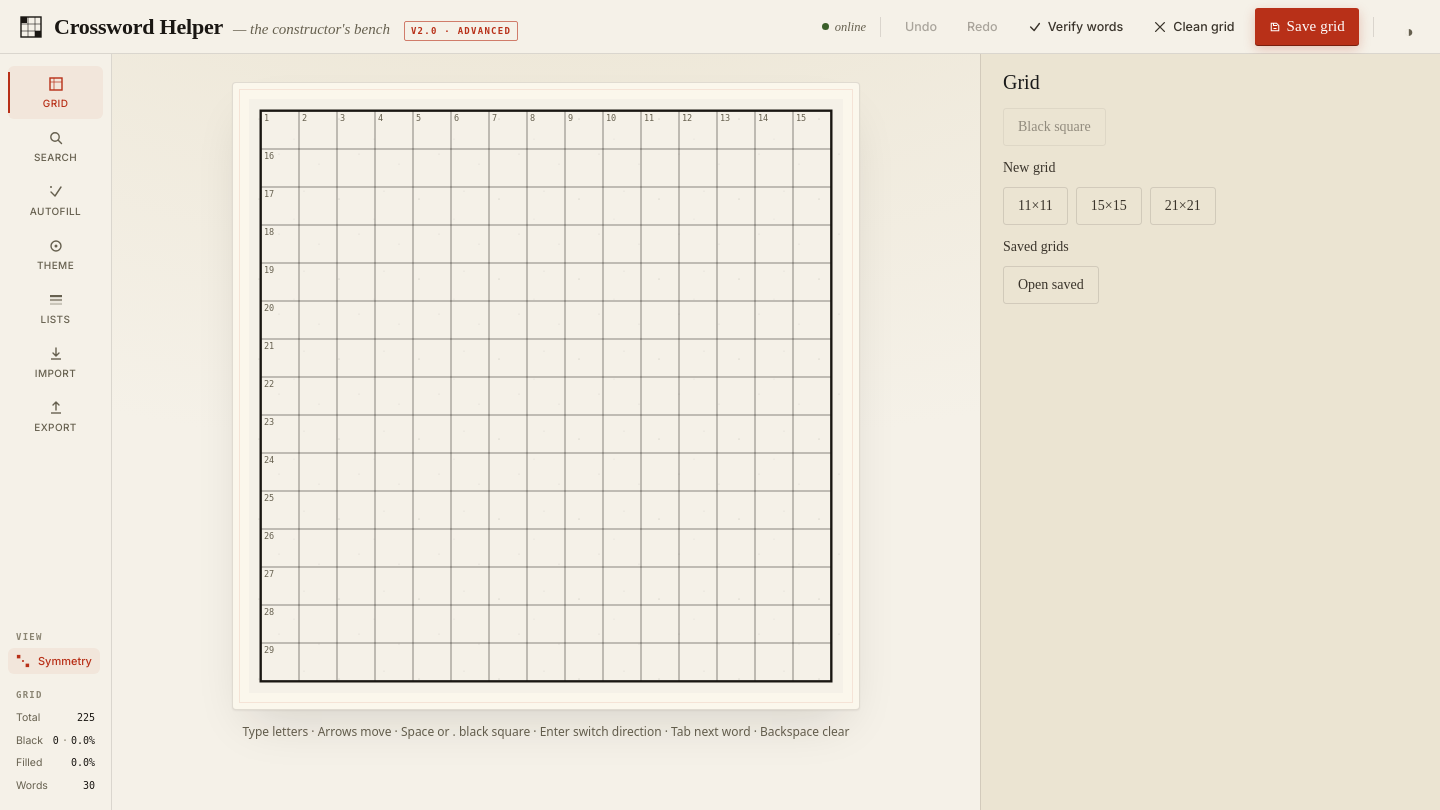
Test case: App save wiring (§3.4) › Save with a stored entry for docId prefills its name
Click the button "Save grid". click: {"x": 1307, "y": 26}
box: [1255,8,1359,45]
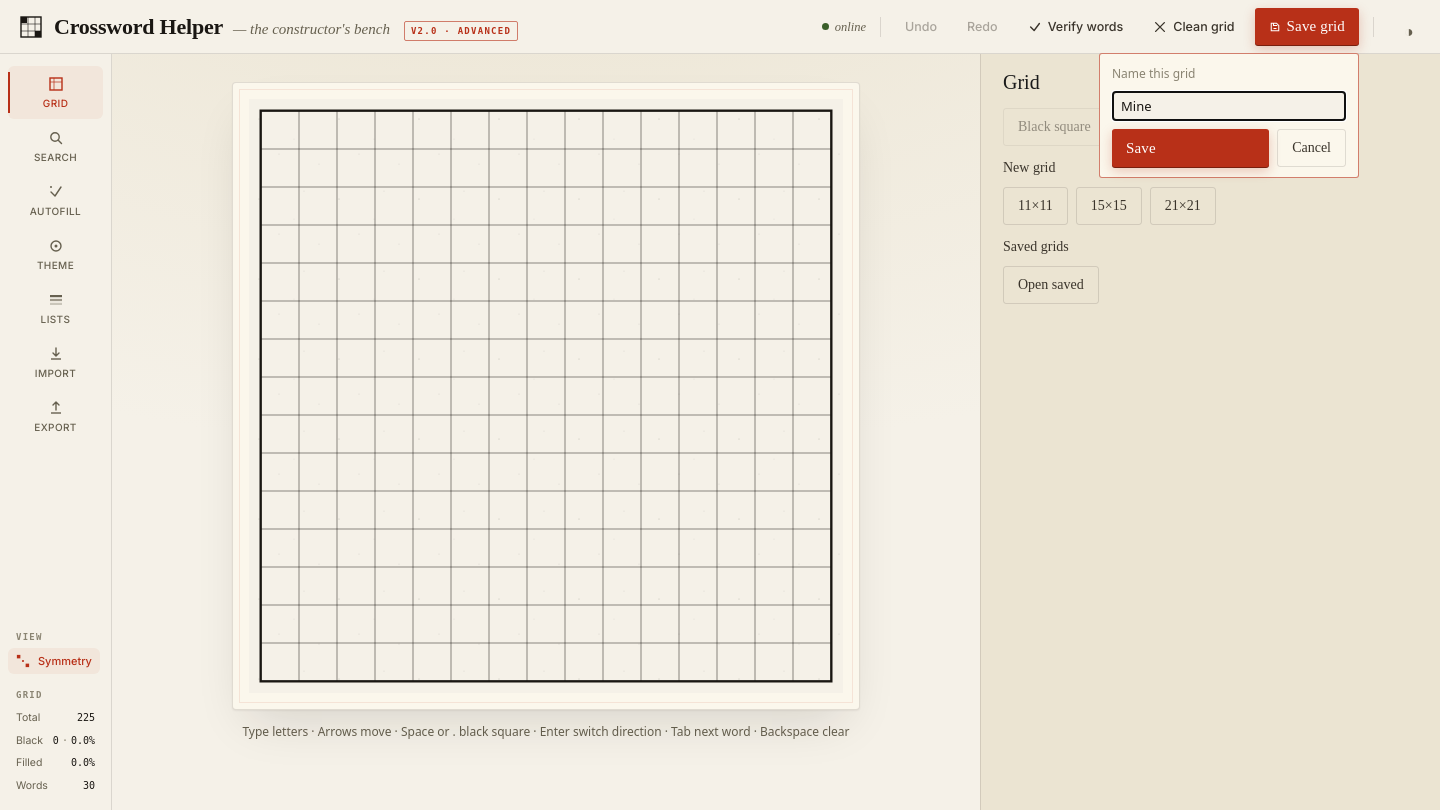
Result: the field holds "Mine" at [1112,91,1346,121]
